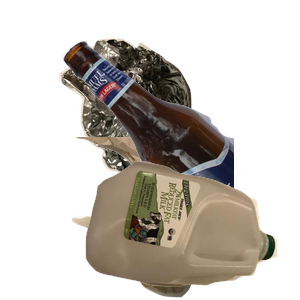glass: (60, 38, 300, 218)
metal: (57, 36, 241, 216)
plastic: (83, 159, 300, 300)
trash: (66, 137, 263, 300)
